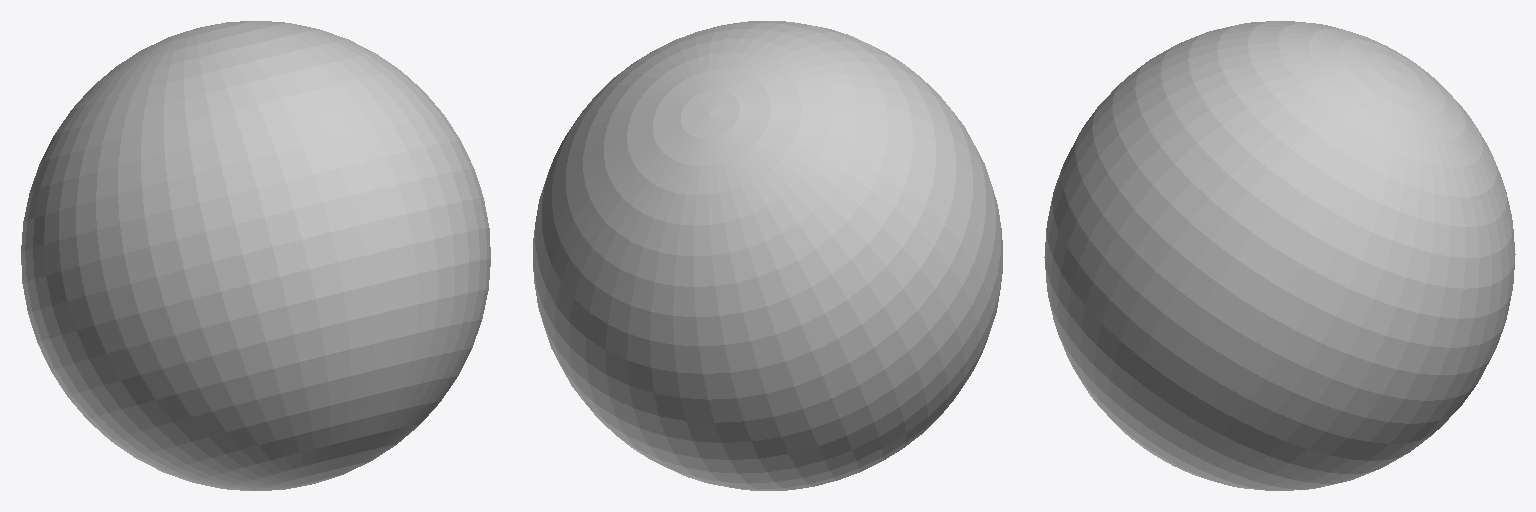
The model's file is neptune.obj.
3 views of the same model, side by side, from view 1: azimuth 30°, elevation 25°; view 2: azimuth 150°, elevation 25°; view 3: azimuth 270°, elevation 25° (orthographic).
Visible parts, largest first — view 1: Neptune_ID68; view 2: Neptune_ID68; view 3: Neptune_ID68.
Part boxes in pixels (x1,y1,x2,y2): Neptune_ID68: (21,21,490,490); Neptune_ID68: (533,21,1002,490); Neptune_ID68: (1044,21,1515,490).
Bounding box in the file's own units: 4.92 × 4.92 × 4.92.